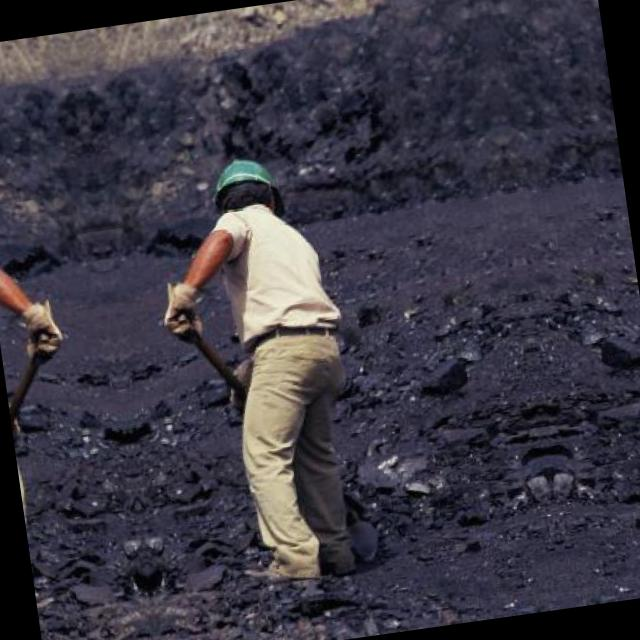helmet: (205, 152, 281, 235)
